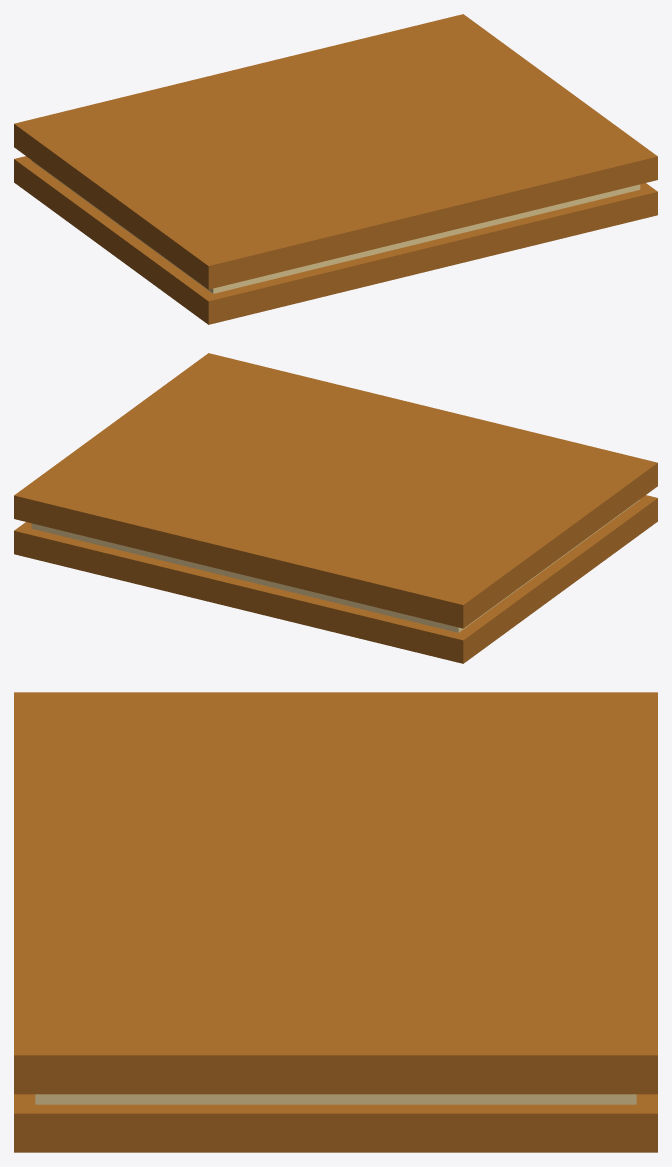
The model's file is platform.glb.
The picture shows the model from 3 angles, top to bottom: view 1: azimuth 30°, elevation 25°; view 2: azimuth 150°, elevation 25°; view 3: azimuth 270°, elevation 25°; orthographic projection. The views are drawn at different scales.
Visible parts, largest first — view 1: Platform; view 2: Platform; view 3: Platform.
Boxes of the visible parts, left/top/right/bottom form: Platform: left=14, top=14, right=657, bottom=324; Platform: left=14, top=353, right=657, bottom=663; Platform: left=14, top=692, right=657, bottom=1152.
Size of the model in its own units: 2 by 0.25 by 1.5.
